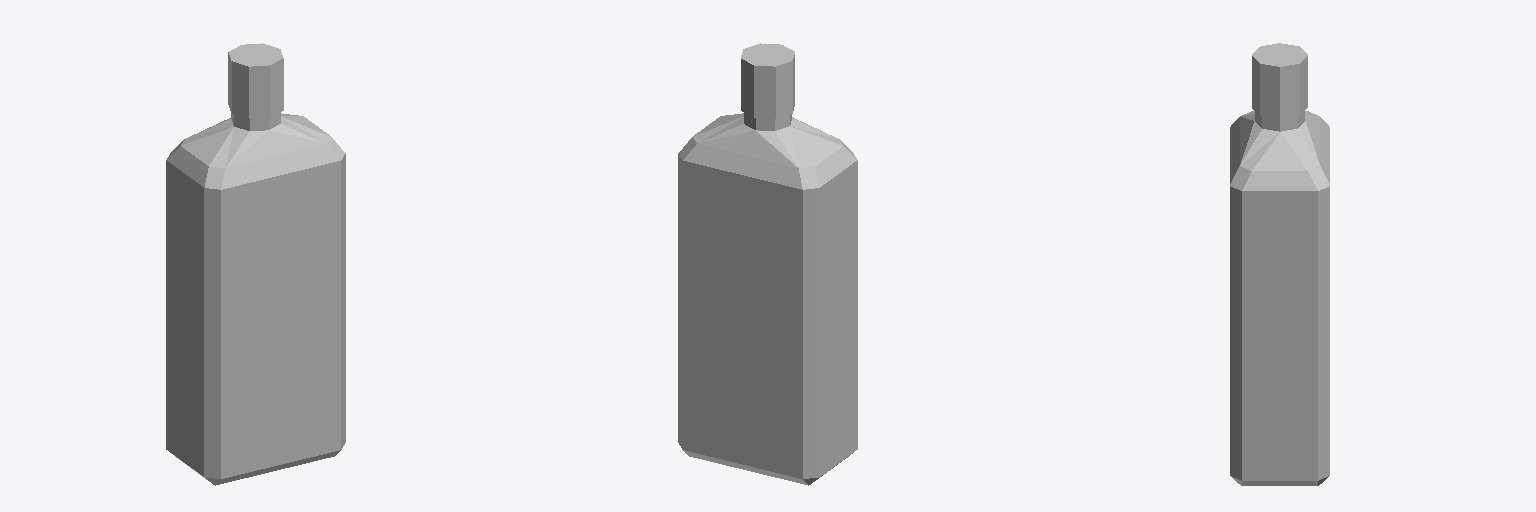
Rendered from drink_001.obj.
The picture shows the model from 3 angles: view 1: azimuth 30°, elevation 25°; view 2: azimuth 150°, elevation 25°; view 3: azimuth 270°, elevation 25°; orthographic projection.
Parts seen in each view (by area): view 1: drink_001; view 2: drink_001; view 3: drink_001.
Boxes of the visible parts, box(x1,y1,x2,y2) form: drink_001: box(166, 43, 345, 485); drink_001: box(678, 43, 857, 485); drink_001: box(1230, 43, 1329, 485).
Size of the model in its own units: 0.1023 by 0.2782 by 0.0632.